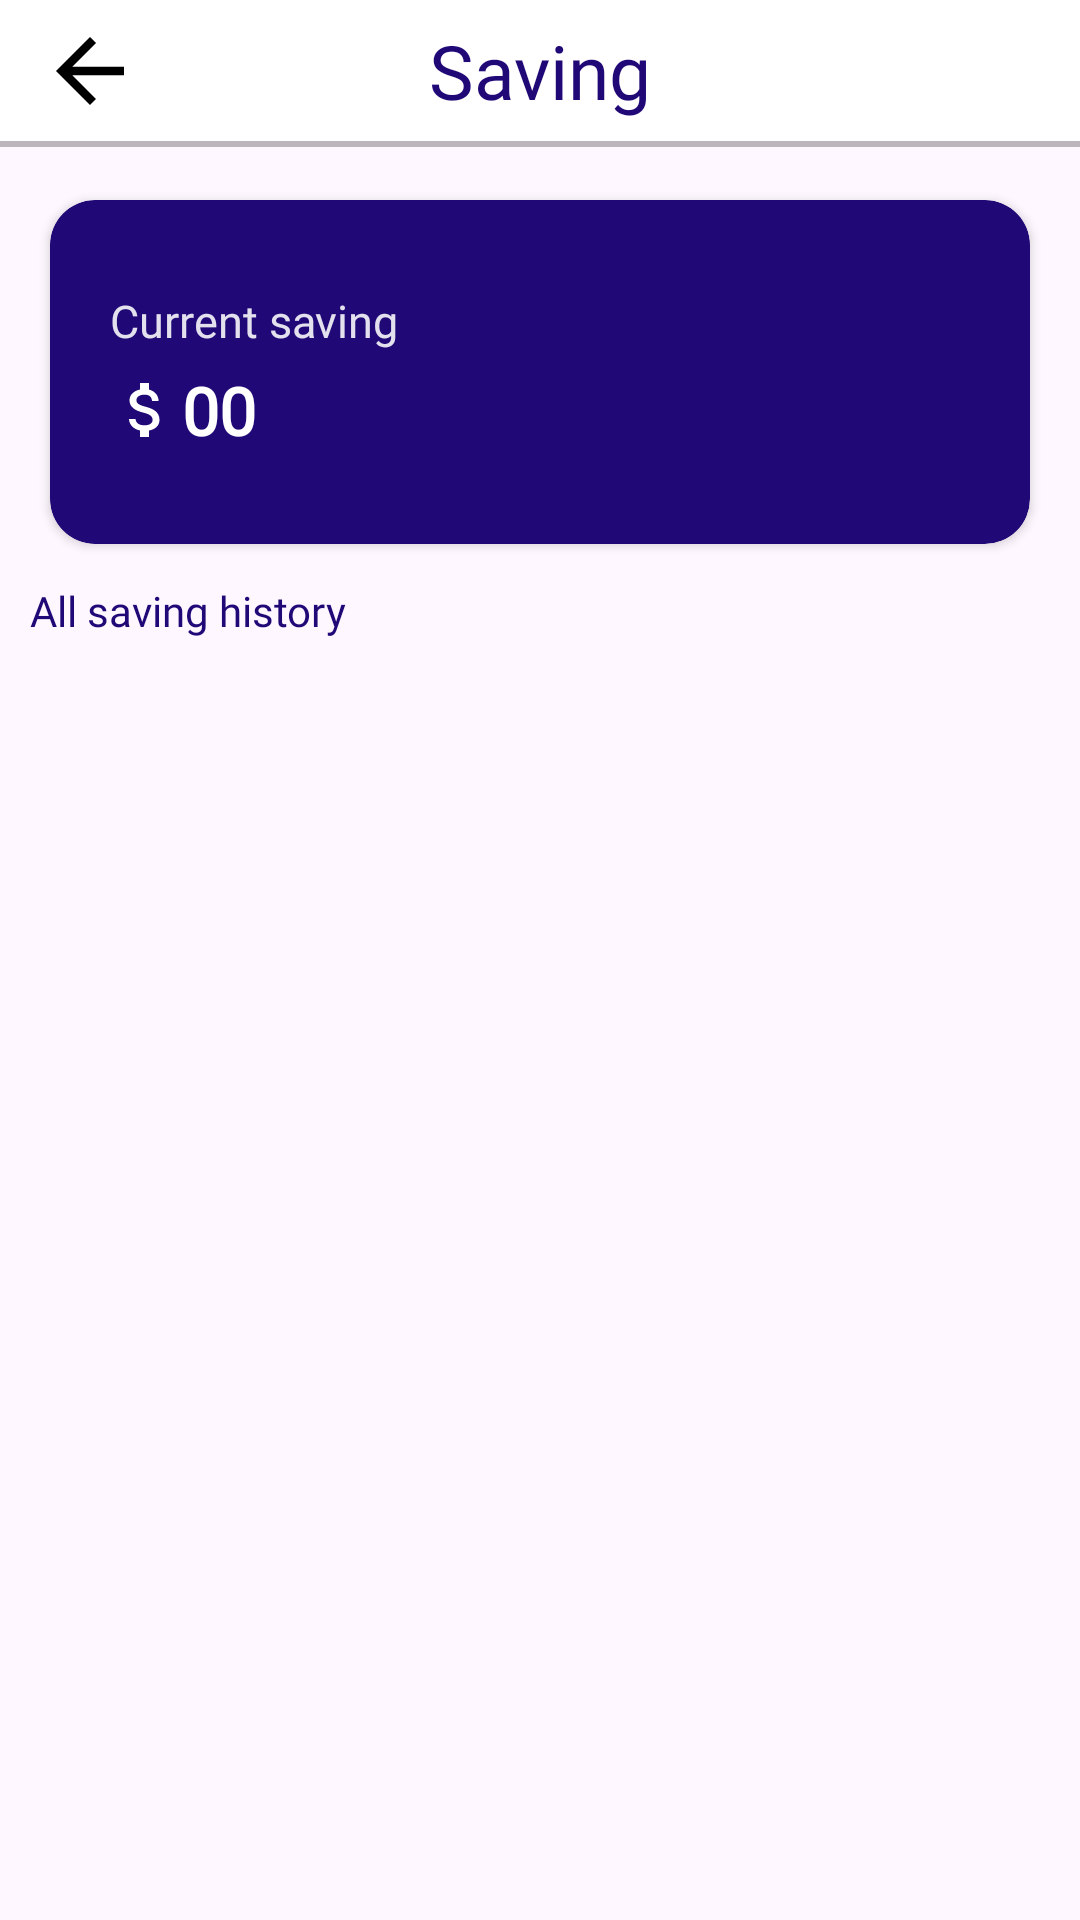

Named icons in this screenshot (1080×1920) and their centers, (x,y):
icarrow back: (90,71)
